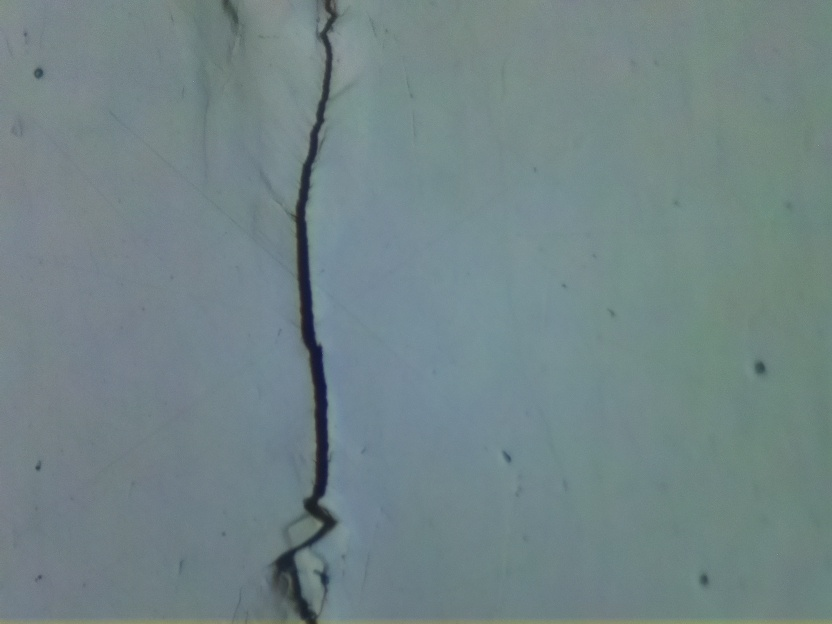crack: (271, 0, 341, 623)
